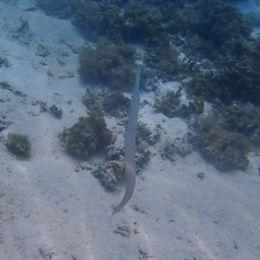Fistularia commersonii: (90, 44, 156, 227)
